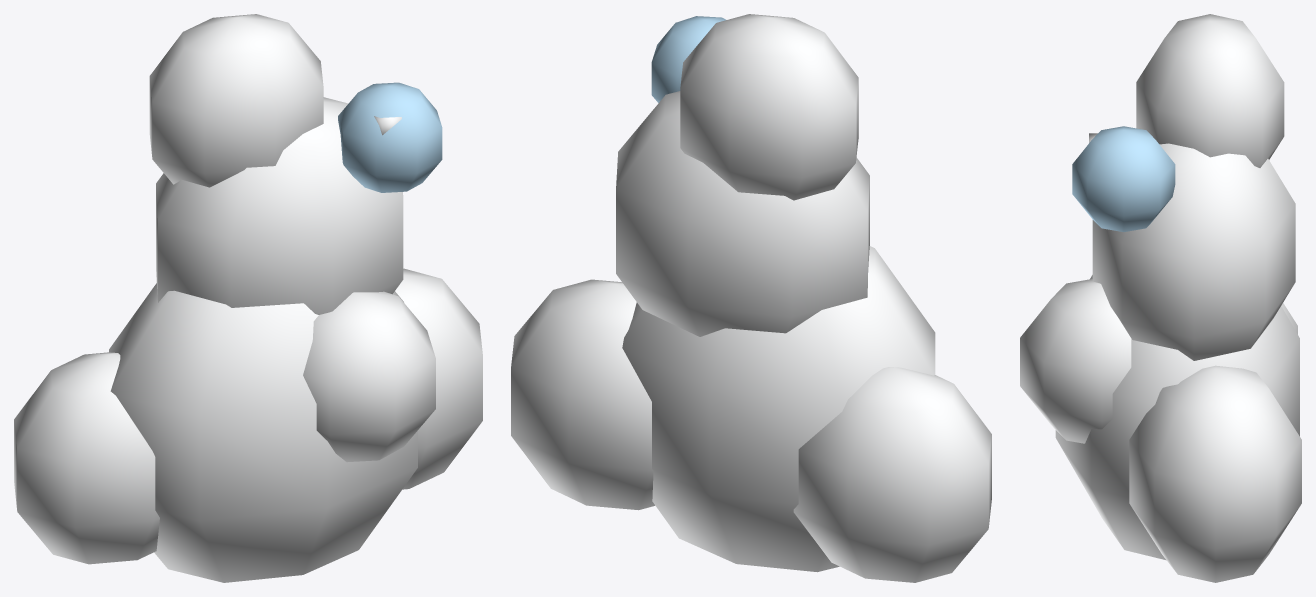
File: CleanACat_Prop_FoamPuff3.fbx
3 views of the same model, side by side, from view 1: azimuth 30°, elevation 25°; view 2: azimuth 150°, elevation 25°; view 3: azimuth 270°, elevation 25° (orthographic). The views are drawn at different scales.
Parts seen in each view (by area): view 1: CleanACat_Prop_FoamPuff3, CleanACat_Prop_FoamPuff3_Bubbles; view 2: CleanACat_Prop_FoamPuff3, CleanACat_Prop_FoamPuff3_Bubbles; view 3: CleanACat_Prop_FoamPuff3, CleanACat_Prop_FoamPuff3_Bubbles.
Part boxes in pixels (x1,y1,x2,y2): CleanACat_Prop_FoamPuff3: (14,14,482,582); CleanACat_Prop_FoamPuff3_Bubbles: (338,82,442,192); CleanACat_Prop_FoamPuff3: (511,14,991,582); CleanACat_Prop_FoamPuff3_Bubbles: (651,16,725,102); CleanACat_Prop_FoamPuff3: (1020,14,1301,582); CleanACat_Prop_FoamPuff3_Bubbles: (1072,126,1175,232).
Size of the model in its own units: 0.9399 by 1.07 by 0.5219.
Materials: 1 (1 with a texture image).
